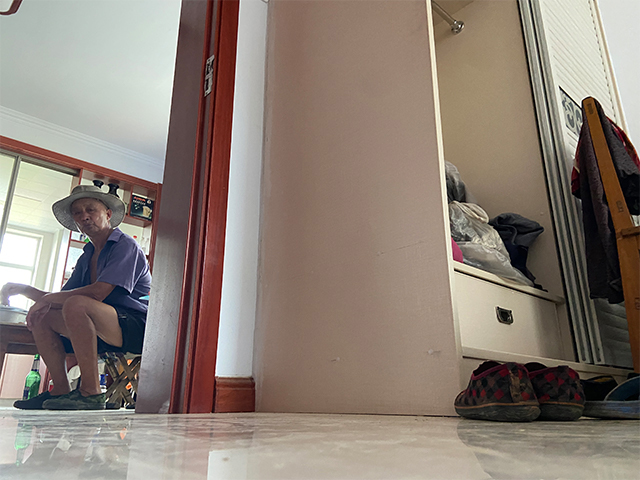cabinet: (272, 74, 630, 415)
slippers: (580, 374, 640, 421)
